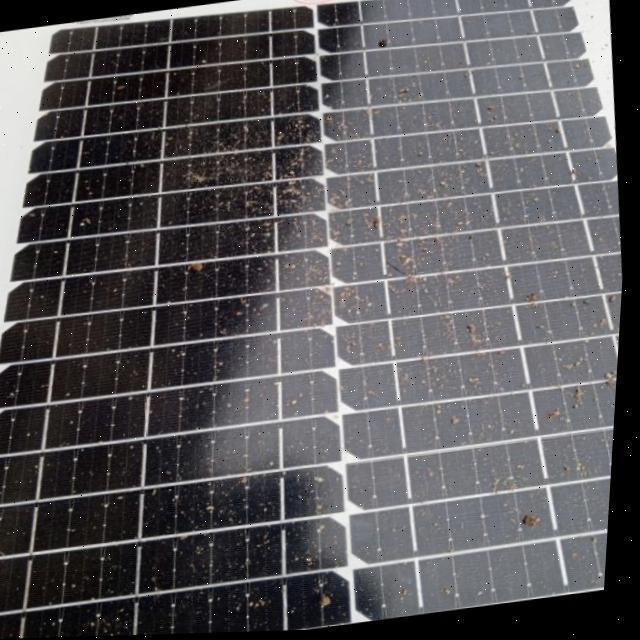Surface Contaminant: (0, 214, 626, 639)
